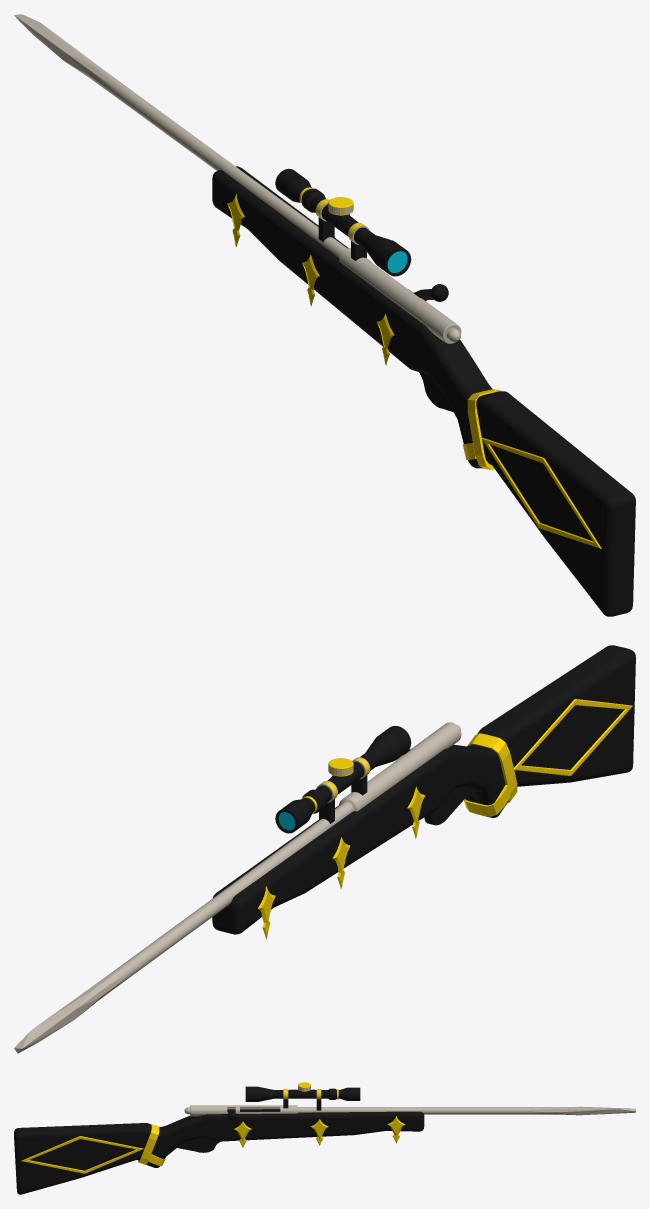
File: LightBringer.fbx
The picture shows the model from 3 angles, top to bottom: view 1: azimuth 30°, elevation 25°; view 2: azimuth 150°, elevation 25°; view 3: azimuth 270°, elevation 25°; orthographic projection. The views are drawn at different scales.
Visible parts, largest first — view 1: Cube, Cylinder, Cylinder.001, Plane, Plane.001, Cube.003; view 2: Cube, Cylinder, Cylinder.001, Plane, Plane.001, Cube.003, BezierCurve, Cube.004; view 3: Cube, Cylinder, Cylinder.001, Plane, Plane.001, BezierCurve, Cube.003.
Boxes of the visible parts, <box> form: Cube: <box>212,166,635,616</box>; Cylinder: <box>14,14,461,343</box>; Cylinder.001: <box>275,168,411,276</box>; Plane: <box>481,437,601,548</box>; Plane.001: <box>227,194,394,365</box>; Cube.003: <box>467,389,501,469</box>; Cube: <box>212,645,635,934</box>; Cylinder: <box>14,722,461,1053</box>; Cylinder.001: <box>275,725,411,833</box>; Plane: <box>514,699,632,775</box>; Plane.001: <box>258,786,424,939</box>; Cube.003: <box>467,733,517,803</box>; BezierCurve: <box>424,786,480,825</box>; Cube.004: <box>464,785,510,816</box>; Cube: <box>14,1109,424,1194</box>; Cylinder: <box>184,1105,635,1116</box>; Cylinder.001: <box>245,1086,360,1101</box>; Plane: <box>21,1136,143,1173</box>; Plane.001: <box>234,1116,405,1147</box>; BezierCurve: <box>167,1137,220,1155</box>; Cube.003: <box>138,1124,159,1164</box>.
Bounding box in the file's own units: 65.52 × 245 × 1281.
